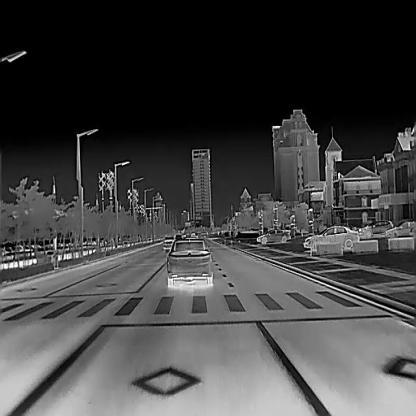car: (166, 236, 214, 286), (302, 225, 360, 249), (384, 218, 416, 239), (356, 220, 393, 236), (255, 228, 290, 244), (162, 236, 175, 250)
